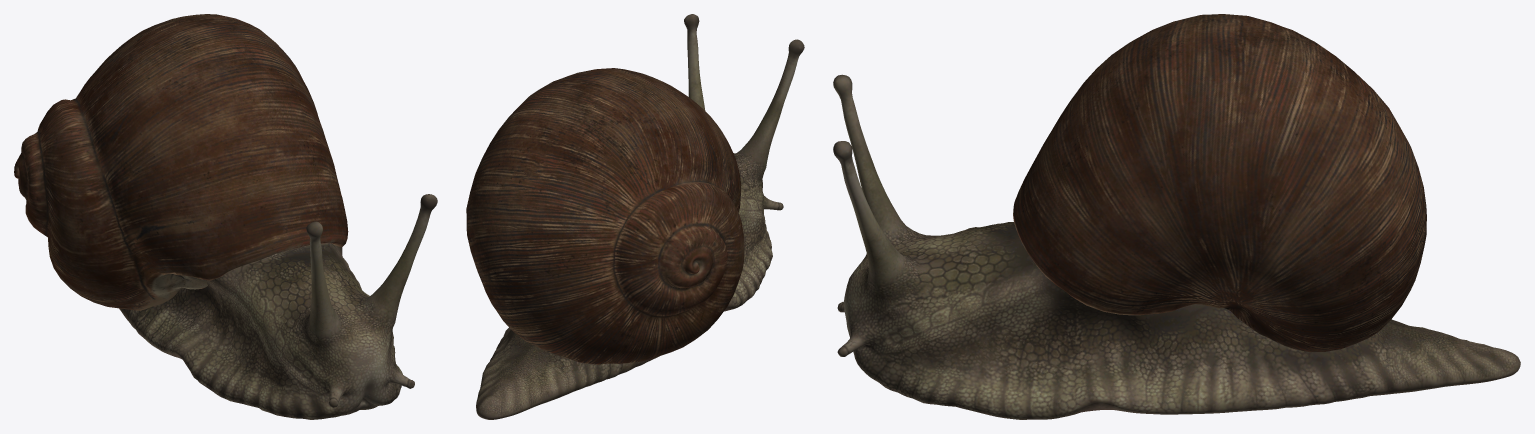
File: basical_snail.glb
The picture shows the model from 3 angles, left to right: view 1: azimuth 30°, elevation 25°; view 2: azimuth 150°, elevation 25°; view 3: azimuth 270°, elevation 25°; orthographic projection. The views are drawn at different scales.
Parts seen in each view (by area): view 1: node_id51_Material_72_0_0; view 2: node_id51_Material_72_0_0; view 3: node_id51_Material_72_0_0.
Part boxes in pixels (<box>): node_id51_Material_72_0_0: <box>14,14,437,419</box>; node_id51_Material_72_0_0: <box>466,14,804,419</box>; node_id51_Material_72_0_0: <box>833,14,1520,419</box>.
Size of the model in its own units: 0.5752 by 0.6158 by 1.11.
1 material, 1 textured.
